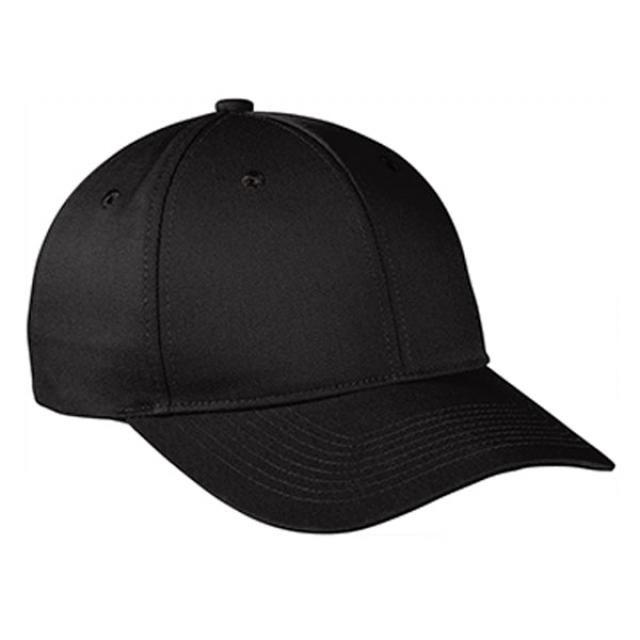mask: (29, 88, 615, 544)
